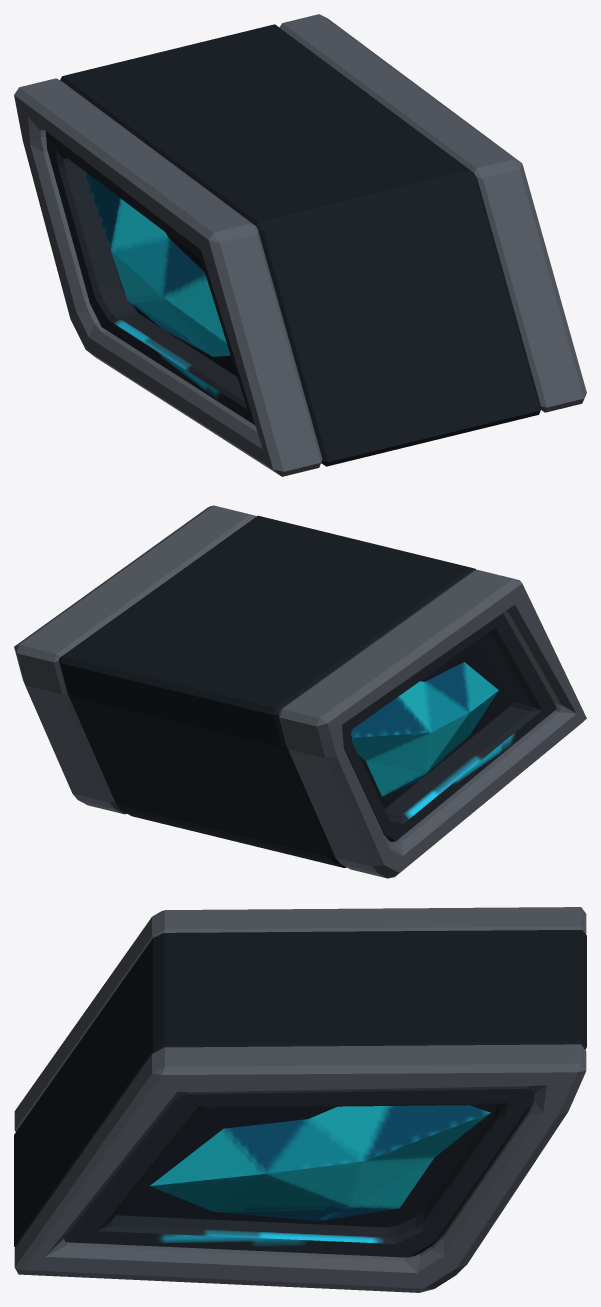
The model's file is crystal_cartridge.obj.
The picture shows the model from 3 angles, top to bottom: view 1: azimuth 30°, elevation 25°; view 2: azimuth 150°, elevation 25°; view 3: azimuth 270°, elevation 25°; orthographic projection. The views are drawn at different scales.
Visible parts, largest first — view 1: crystal_cartridge; view 2: crystal_cartridge; view 3: crystal_cartridge.
Part boxes in pixels (x1,y1,x2,y2): crystal_cartridge: (14,14,586,476); crystal_cartridge: (14,505,586,878); crystal_cartridge: (14,907,586,1292).
Size of the model in its own units: 0.0541 by 0.0346 by 0.0784.
Materials: 1 (1 with a texture image).
